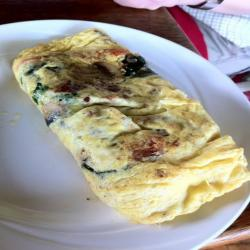omelette: (12, 29, 250, 222)
